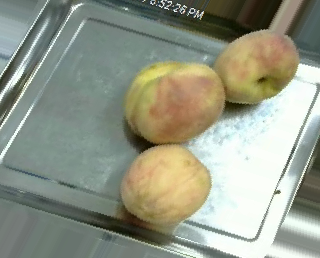Peach: (123, 60, 228, 143), (120, 143, 211, 231), (215, 30, 299, 105)
